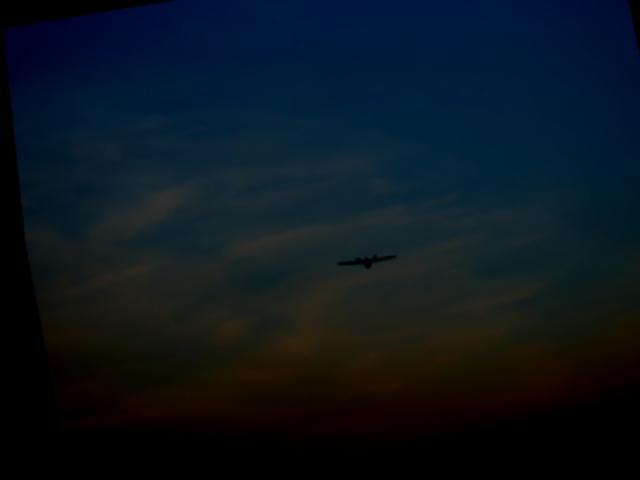plane: (330, 254, 391, 277)
